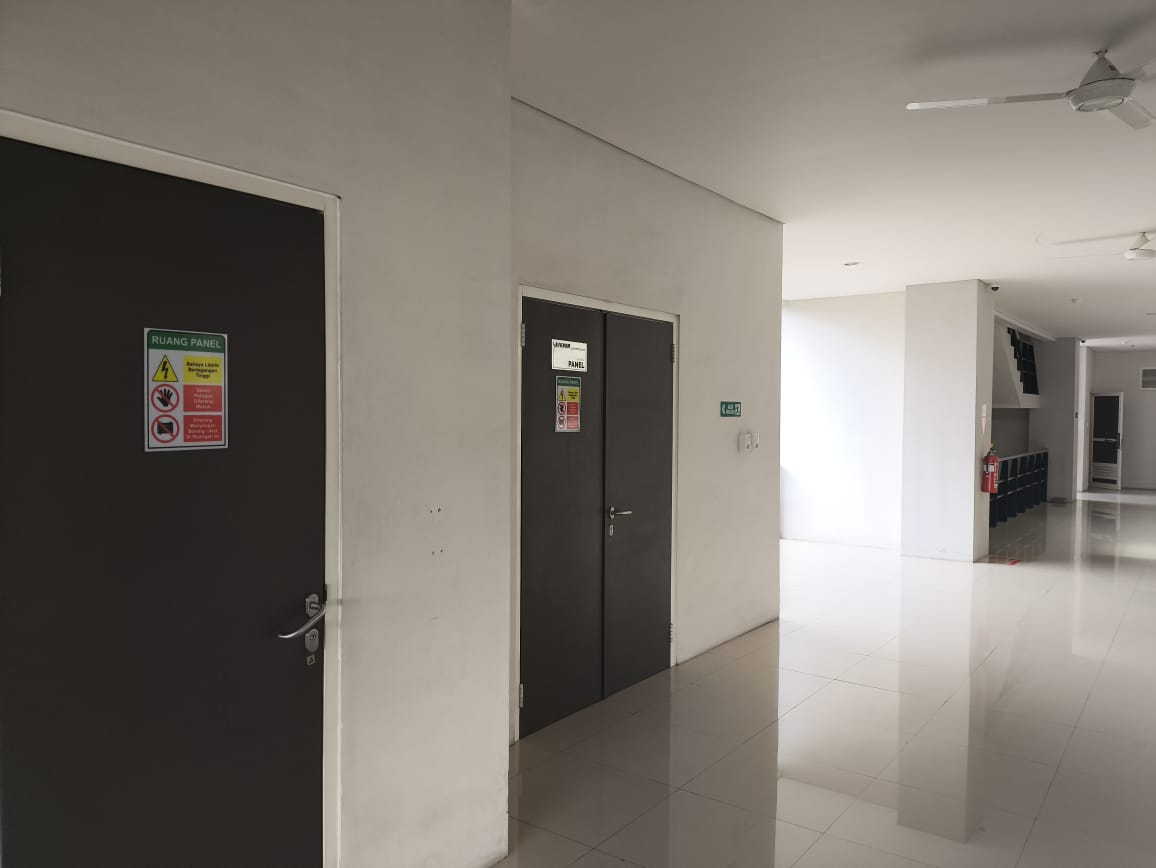ruang panel: (544, 333, 591, 377)
